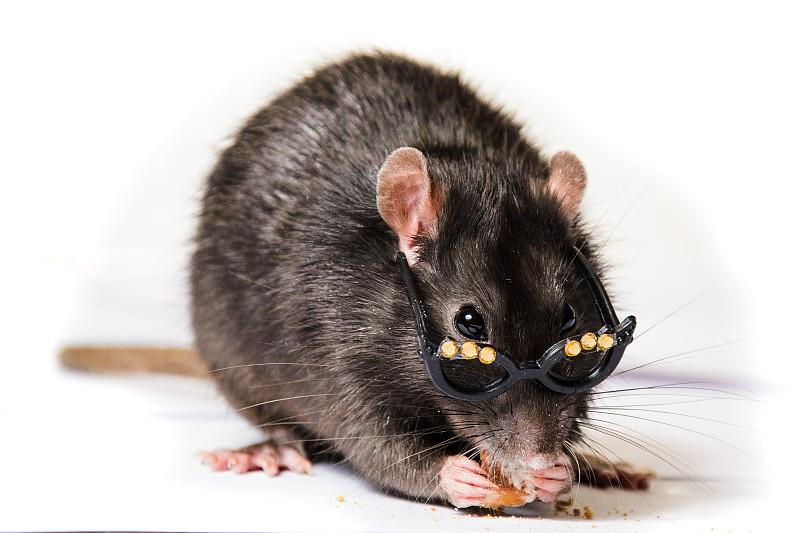rat: (88, 46, 713, 494)
